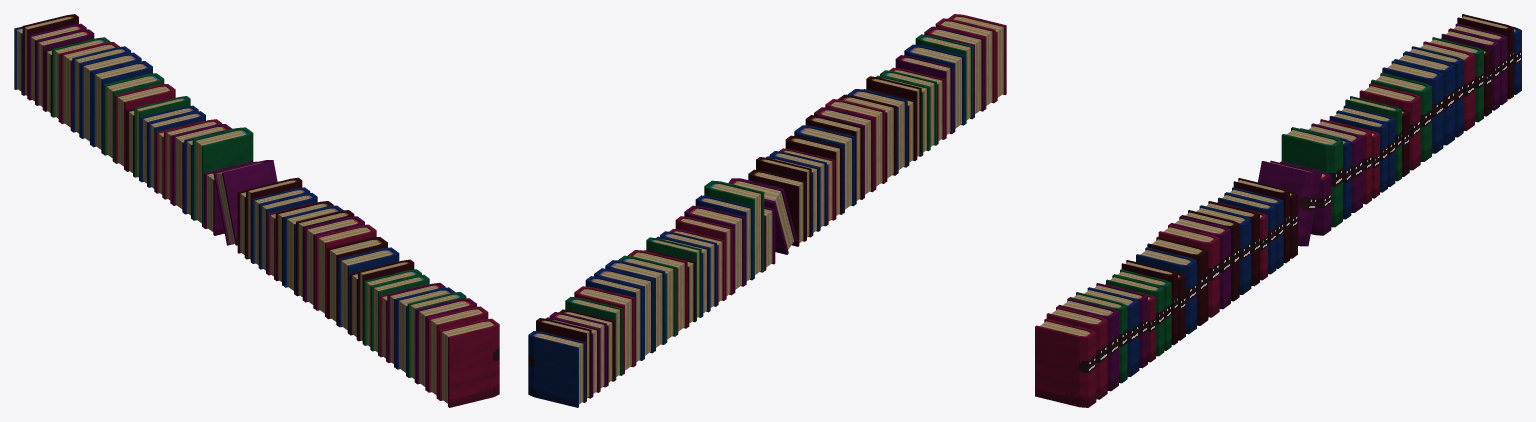
The model's file is E_Books.6.fbx.
The picture shows the model from 3 angles, left to right: view 1: azimuth 30°, elevation 25°; view 2: azimuth 150°, elevation 25°; view 3: azimuth 330°, elevation 25°; orthographic projection.
Parts seen in each view (by area): view 1: Cube.202; view 2: Cube.202; view 3: Cube.202.
Part boxes in pixels (x1,y1,x2,y2): Cube.202: (14,14,499,407); Cube.202: (528,14,1006,407); Cube.202: (1035,14,1521,407).
Size of the model in its own units: 37.81 by 56.89 by 552.
